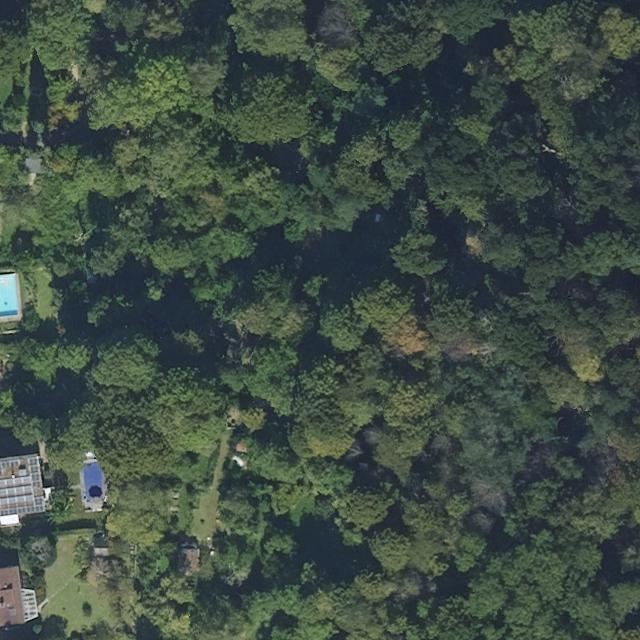PV: (1, 495, 45, 517), (0, 485, 33, 498), (27, 457, 40, 488), (1, 476, 32, 488), (1, 494, 33, 504), (2, 457, 23, 470)
